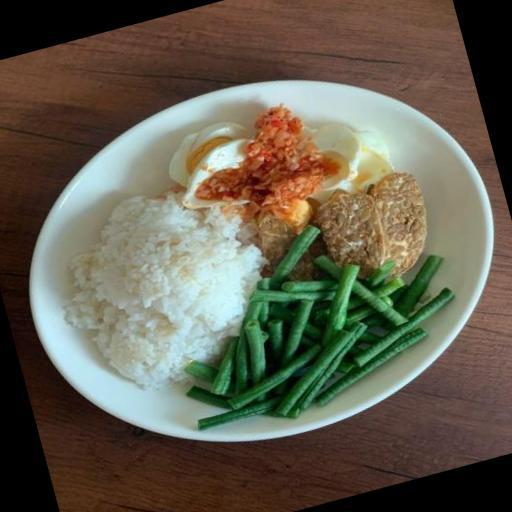buncis_rebus: (224, 238, 444, 433)
nasi_putih: (34, 176, 239, 409)
tempe_goreng: (308, 162, 450, 292)
